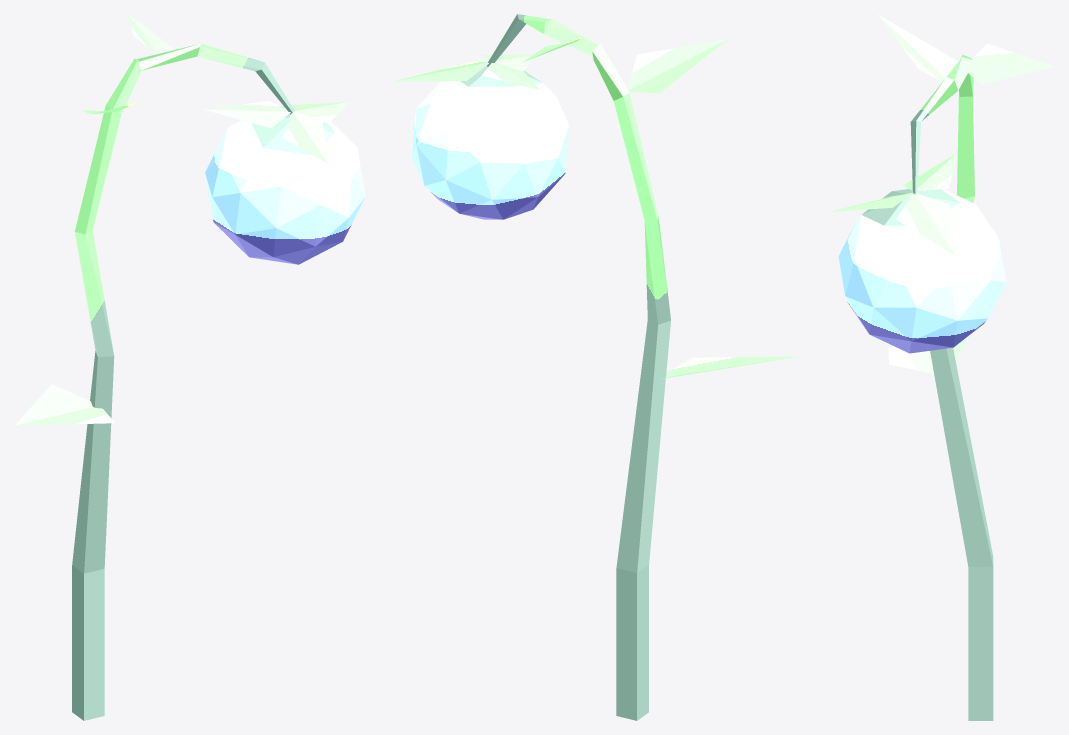
The model's file is water_plant_2.glb.
3 views of the same model, side by side, from view 1: azimuth 30°, elevation 25°; view 2: azimuth 150°, elevation 25°; view 3: azimuth 270°, elevation 25° (orthographic). The views are drawn at different scales.
Parts seen in each view (by area): view 1: Cube, Icosphere, Plane, Plane.005, Plane.003, Plane.004, Plane.002; view 2: Cube, Icosphere, Plane.001, Plane, Plane.004, Plane.003; view 3: Icosphere, Cube, Plane.004, Plane.002, Plane.001, Plane, Plane.003, Plane.005.
Boxes of the visible parts, x1,y1,x2,y2 form: Cube: (72,43,294,720); Icosphere: (205,106,365,264); Plane: (14,384,114,425); Plane.005: (283,112,328,163); Plane.003: (203,101,290,128); Plane.004: (291,101,349,123); Plane.002: (128,14,173,54); Cube: (487,14,670,720); Icosphere: (412,65,568,219); Plane.001: (627,39,727,93); Plane: (661,356,797,378); Plane.004: (395,61,488,81); Plane.003: (481,62,539,89); Icosphere: (838,189,1006,353); Cube: (910,54,993,720); Plane.004: (896,193,955,255); Plane.002: (965,43,1053,84); Plane.001: (877,14,958,81); Plane: (887,335,969,373); Plane.003: (903,153,957,190); Plane.005: (829,192,913,211).
Size of the model in its own units: 5.25 by 9.03 by 2.66.
